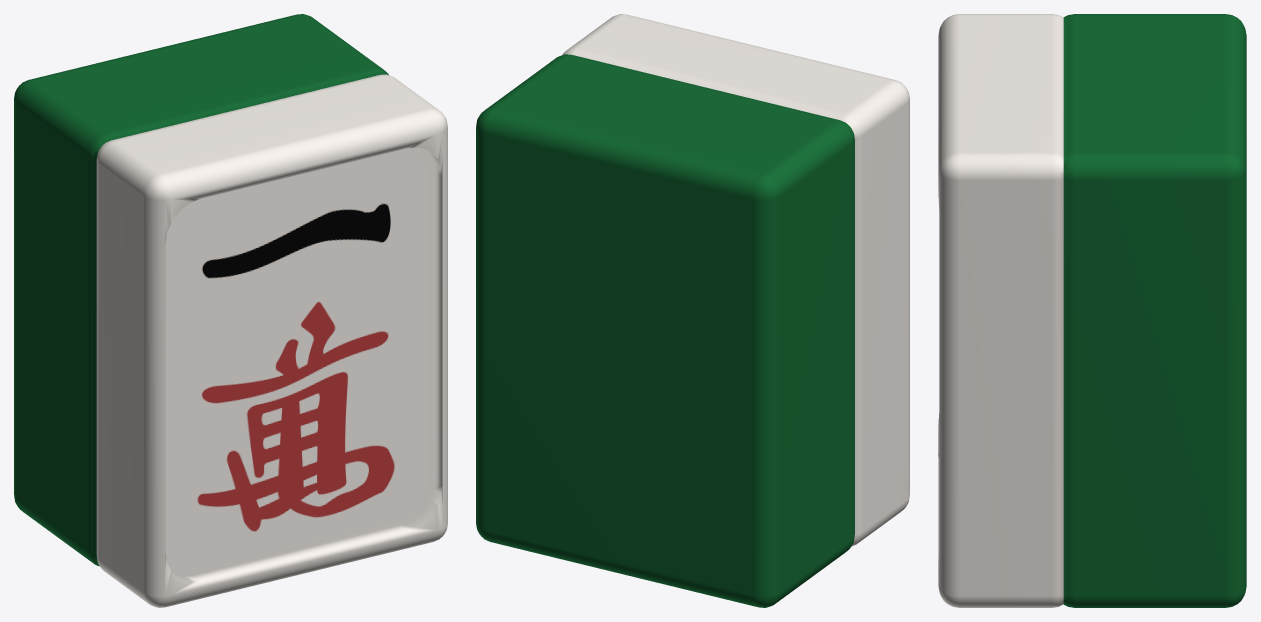
File: man1-aa5js7pj.glb
The picture shows the model from 3 angles, left to right: view 1: azimuth 30°, elevation 25°; view 2: azimuth 150°, elevation 25°; view 3: azimuth 270°, elevation 25°; orthographic projection. The views are drawn at different scales.
Visible parts, largest first — view 1: TileBody, FacePanel; view 2: TileBody; view 3: TileBody.
Boxes of the visible parts, x1,y1,x2,y2 form: TileBody: [14, 14, 447, 607]; FacePanel: [165, 148, 428, 569]; TileBody: [476, 14, 909, 607]; TileBody: [938, 14, 1246, 607].
Bounding box in the file's own units: 19 × 26 × 16.
3 materials, 1 textured.
